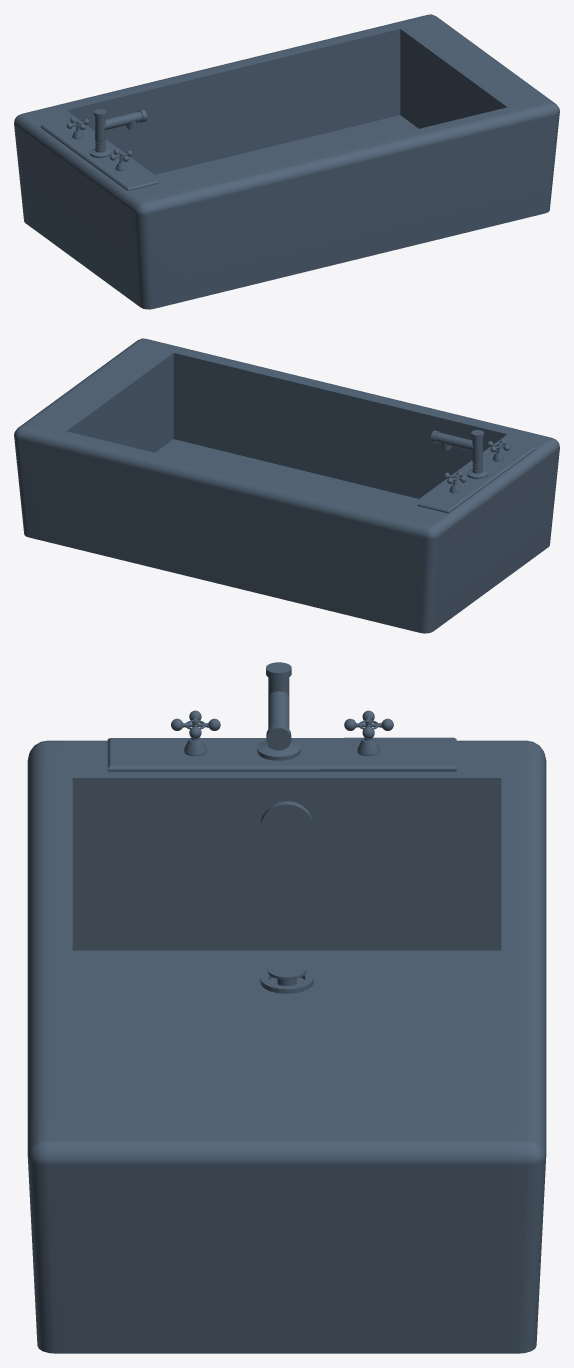
Rendered from Bathtub LOW.fbx.
3 views of the same model, one above another, from view 1: azimuth 30°, elevation 25°; view 2: azimuth 150°, elevation 25°; view 3: azimuth 270°, elevation 25° (orthographic). The views are drawn at different scales.
Parts seen in each view (by area): view 1: Bathtub_23_low, Bathtub_12_low, Bathtub_08_low, Bathtub_13_low; view 2: Bathtub_23_low, Bathtub_12_low, Bathtub_08_low, Bathtub_13_low; view 3: Bathtub_23_low, Bathtub_12_low, Bathtub_04_low, Bathtub_08_low, Bathtub_13_low.
Boxes of the visible parts, left/top/right/bottom form: Bathtub_23_low: left=14, top=14, right=559, bottom=309; Bathtub_12_low: left=40, top=118, right=158, bottom=190; Bathtub_08_low: left=89, top=109, right=110, bottom=158; Bathtub_13_low: left=103, top=109, right=147, bottom=129; Bathtub_23_low: left=14, top=338, right=559, bottom=633; Bathtub_12_low: left=417, top=440, right=535, bottom=513; Bathtub_08_low: left=467, top=430, right=488, bottom=479; Bathtub_13_low: left=430, top=430, right=474, bottom=451; Bathtub_23_low: left=27, top=740, right=546, bottom=1353; Bathtub_12_low: left=107, top=737, right=456, bottom=771; Bathtub_04_low: left=260, top=801, right=313, bottom=852; Bathtub_08_low: left=257, top=662, right=300, bottom=760; Bathtub_13_low: left=266, top=691, right=291, bottom=750.
Bounding box in the file's own units: 186 × 63.39 × 98.39.
